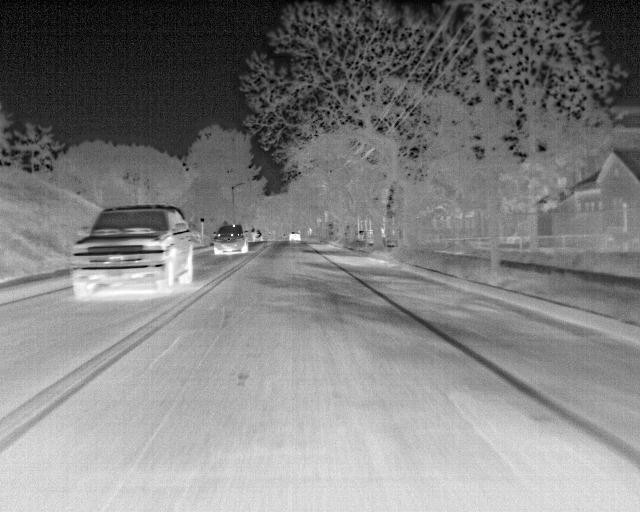car: (67, 205, 199, 304), (212, 223, 249, 255), (287, 229, 301, 243)
